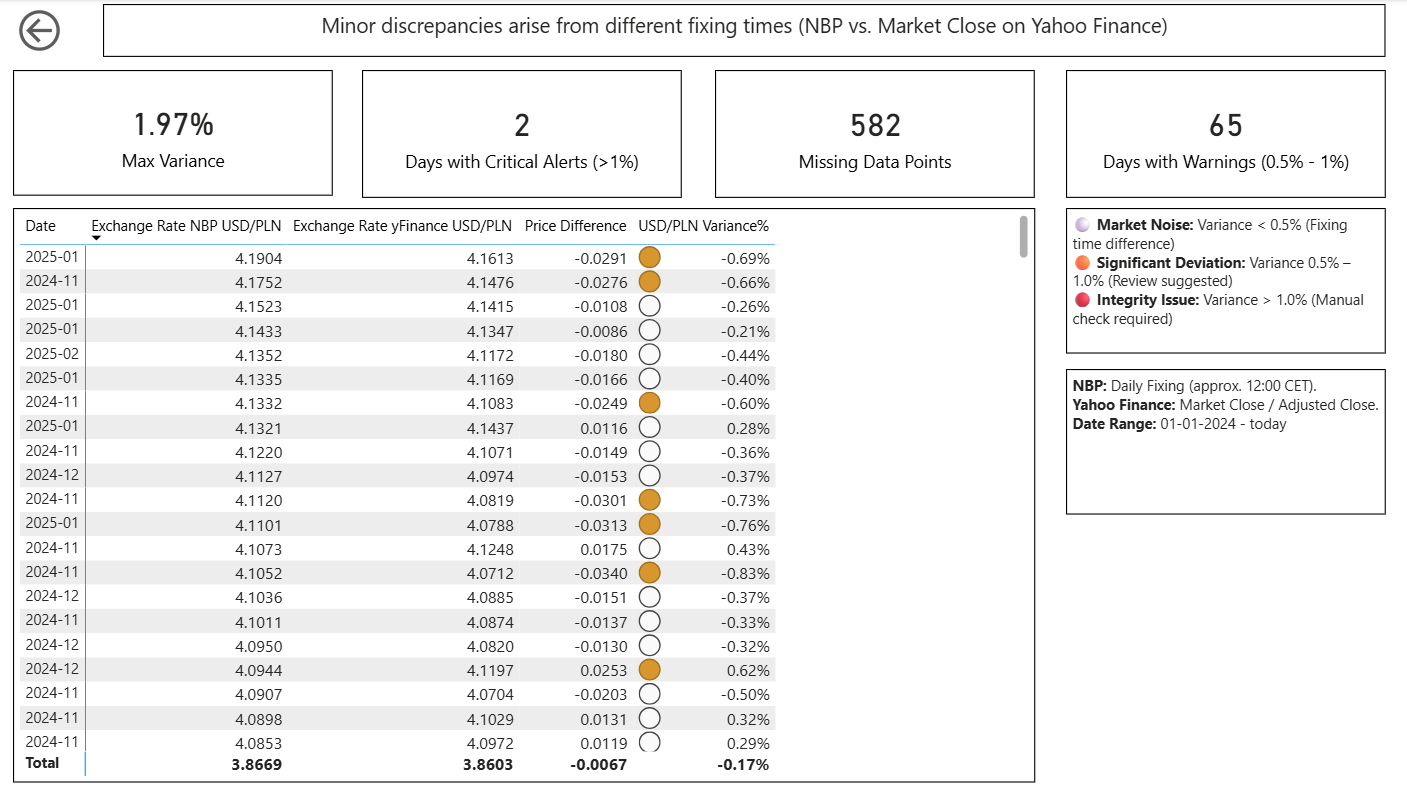

The page's visual inventory and layout, read from the dashboard file:
{"tool":"powerbi","page":{"name":"Data Quality Audit","canvas":[1280,720],"ordinal":4},"visuals":[{"type":"pivotTable","fields":{"Rows":["DATE_TABLE.Date"],"Values":["_Measures.Price AVG NBP USD_PLN","_Measures.Price AVG yF USD_PLN","_Measures.Price Difference","_Measures.USD/PLN Variance%"]},"box":[13.6,189.5,926.8,520.5],"z":0},{"type":"card","fields":{"Values":["_Measures.Measure"]},"box":[13.6,64.4,290.2,114.3],"z":1000},{"type":"textbox","box":[95.2,4.5,1163.4,48.1],"z":2000},{"type":"card","fields":{"Values":["_Measures.Days with Alert"]},"box":[968.5,64.4,290.2,116.1],"z":3000},{"type":"textbox","box":[968.5,189.5,290.2,132.4],"z":4000},{"type":"card","fields":{"Values":["_Measures.Days with Critical Alerts (>1%)"]},"box":[330.1,64.4,290.2,116.1],"z":5000},{"type":"card","fields":{"Values":["_Measures.Missing Data Points"]},"box":[650.2,64.4,290.2,116.1],"z":6000},{"type":"textbox","box":[968.5,335.5,290.2,132.4],"z":7000},{"type":"actionButton","box":[13.6,4.5,81.6,48.1],"z":8000}]}

Visuals, with their boxes in screenshot pixels (x1, y1, x2, y2), scaled from the page's 1280x720 canvas onto the 1407x793 screenshot:
pivotTable - DATE_TABLE.Date x _Measures.Price AVG NBP USD_PLN: 15,209,1034,782
card - _Measures.Measure: 15,71,334,197
textbox: 105,5,1383,58
card - _Measures.Days with Alert: 1065,71,1384,199
textbox: 1065,209,1384,355
card - _Measures.Days with Critical Alerts (>1%): 363,71,682,199
card - _Measures.Missing Data Points: 715,71,1034,199
textbox: 1065,370,1384,515
actionButton: 15,5,105,58
